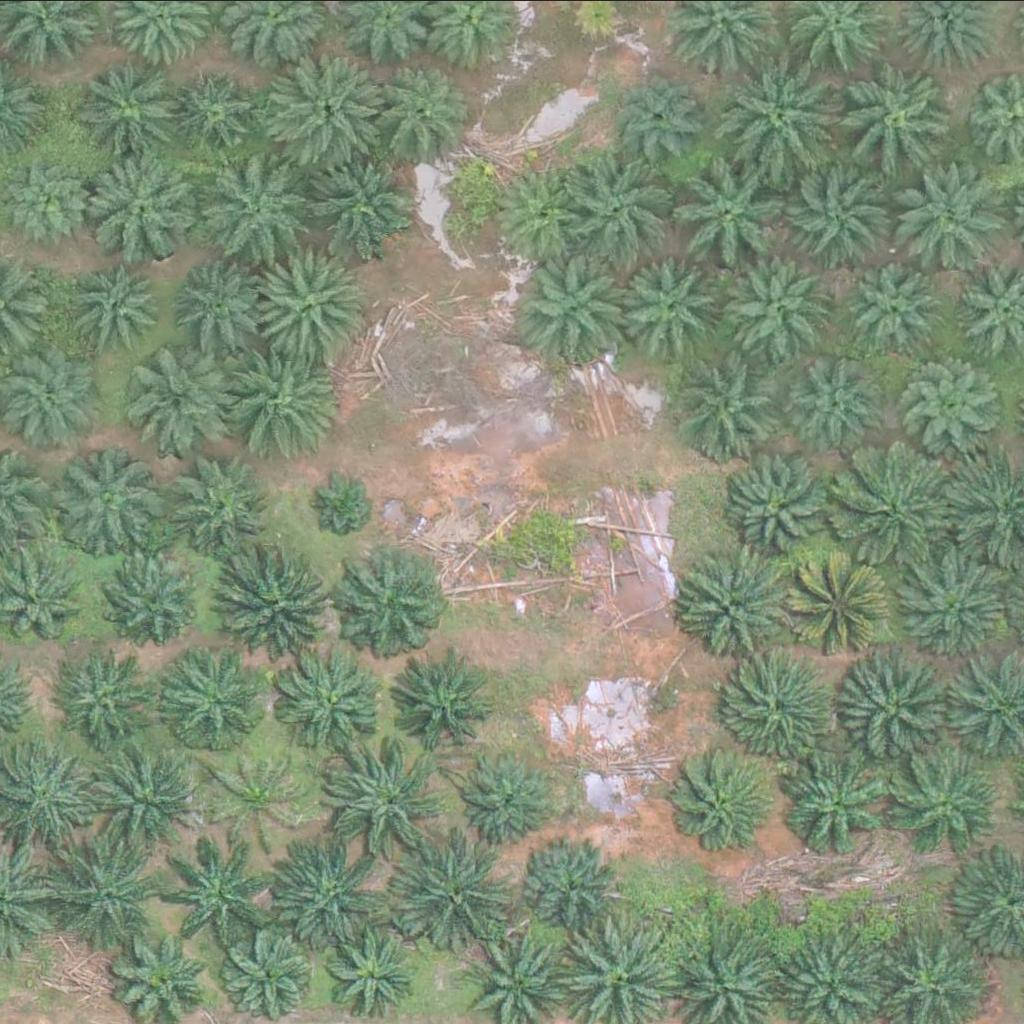Kelapa_Sawit: (398, 835, 512, 948), (783, 157, 896, 270), (836, 451, 949, 564), (843, 648, 956, 761), (785, 746, 898, 859), (189, 156, 302, 269), (306, 143, 419, 256), (253, 249, 366, 362), (113, 344, 226, 457), (227, 352, 340, 465), (730, 60, 843, 173), (679, 154, 792, 267), (522, 249, 635, 362), (724, 452, 837, 565), (54, 447, 167, 560), (223, 548, 336, 661), (272, 834, 385, 947), (900, 159, 1014, 271), (890, 744, 1004, 856), (87, 154, 201, 266), (273, 641, 387, 753), (97, 739, 211, 851), (662, 746, 776, 858), (839, 65, 952, 177), (77, 52, 190, 164), (265, 52, 378, 164), (562, 149, 675, 261), (712, 247, 825, 359), (675, 353, 788, 465), (681, 550, 794, 662), (725, 660, 838, 772), (339, 547, 452, 659), (328, 743, 441, 855), (159, 838, 272, 950), (44, 834, 157, 946), (902, 563, 1003, 663), (375, 68, 476, 168), (172, 255, 273, 355), (59, 251, 160, 351), (492, 162, 593, 262), (626, 254, 727, 354), (173, 451, 274, 551), (105, 554, 206, 654), (201, 745, 302, 845), (519, 838, 620, 938), (908, 358, 1008, 458), (796, 557, 896, 657), (392, 652, 492, 752), (63, 648, 163, 748), (164, 655, 264, 755), (465, 749, 565, 849), (173, 72, 261, 160), (3, 155, 91, 243), (612, 67, 700, 155), (853, 260, 941, 347), (798, 358, 886, 445), (302, 466, 377, 541)
